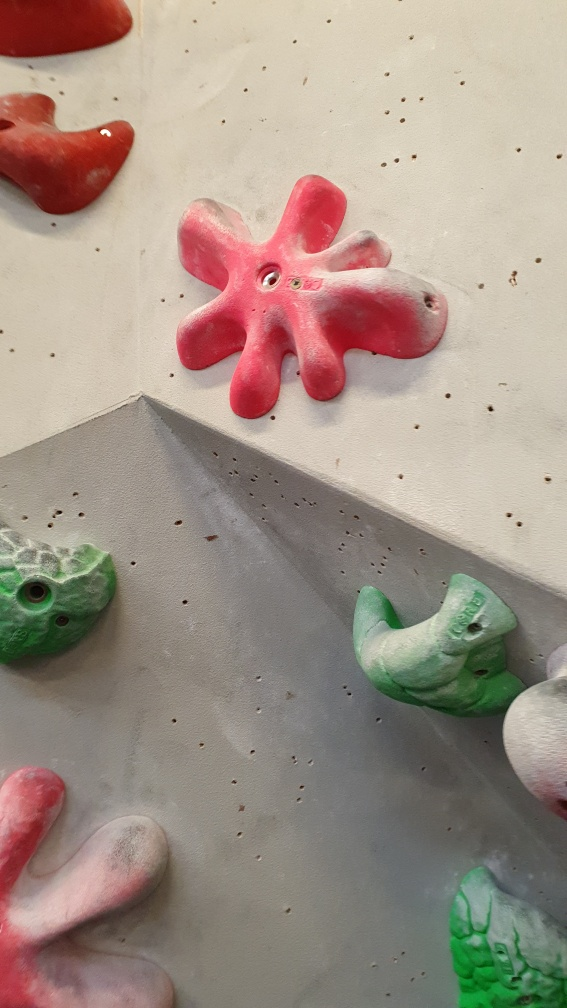Jug: (350, 574, 536, 725), (452, 869, 567, 1005)
Octopus Pinch: (170, 175, 459, 419), (2, 763, 180, 1005)
Sloper: (503, 673, 567, 817)
